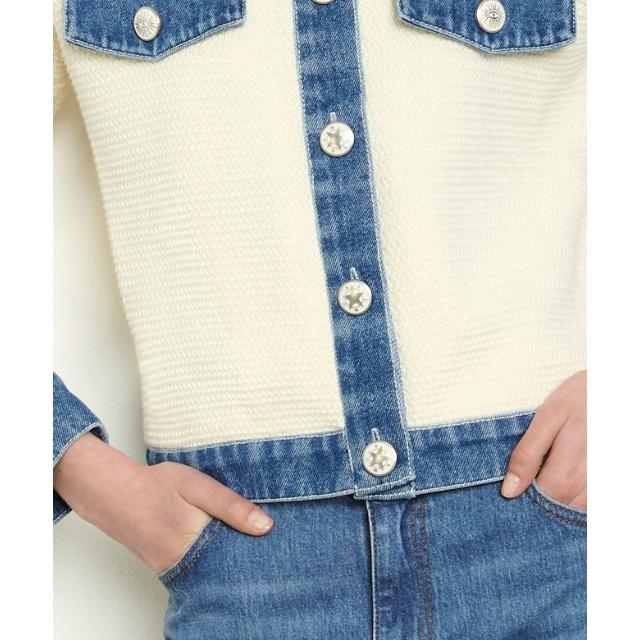denim: (103, 452, 587, 640)
